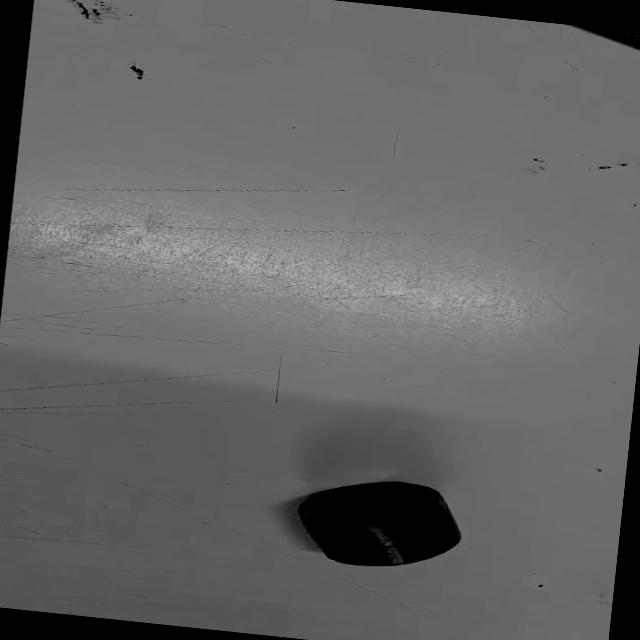rcircle: (298, 480, 461, 565)
